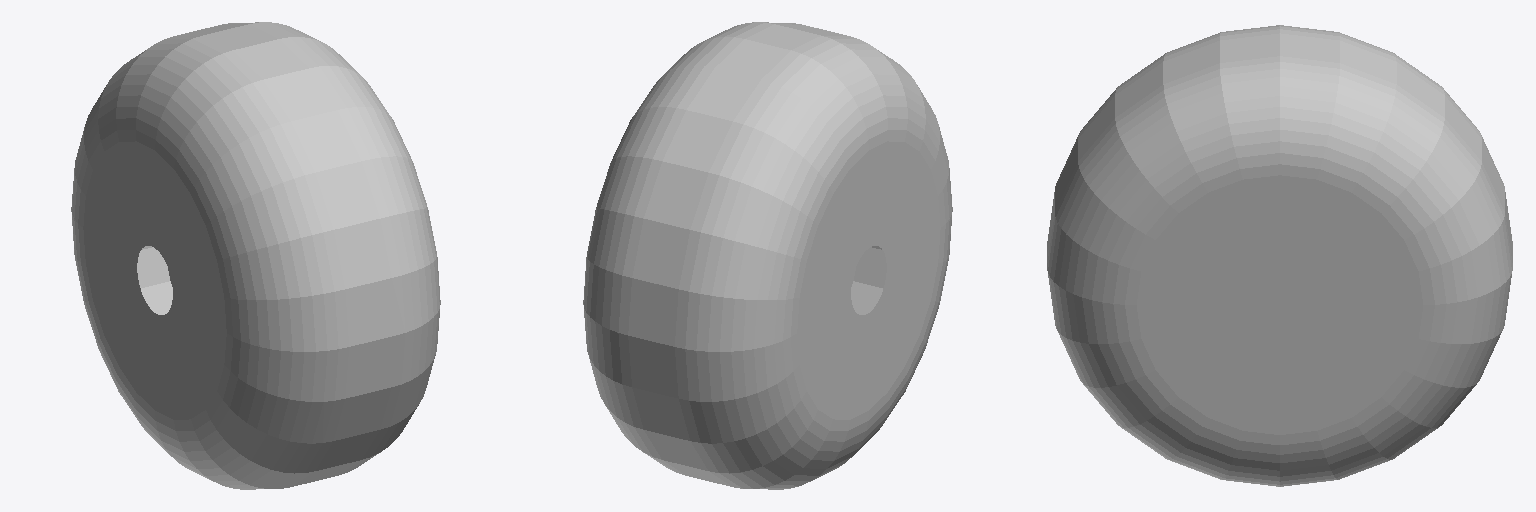
The model's file is original-81.obj.
3 renders of one model, left to right at view 1: azimuth 30°, elevation 25°; view 2: azimuth 150°, elevation 25°; view 3: azimuth 270°, elevation 25°, orthographic.
Parts seen in each view (by area): view 1: #ID529; view 2: #ID529; view 3: #ID529.
Part boxes in pixels (x1,y1,x2,y2): #ID529: (71,22,440,489); #ID529: (583,22,952,489); #ID529: (1047,25,1512,486).
Size of the model in its own units: 0.0196 by 0.0391 by 0.0391.